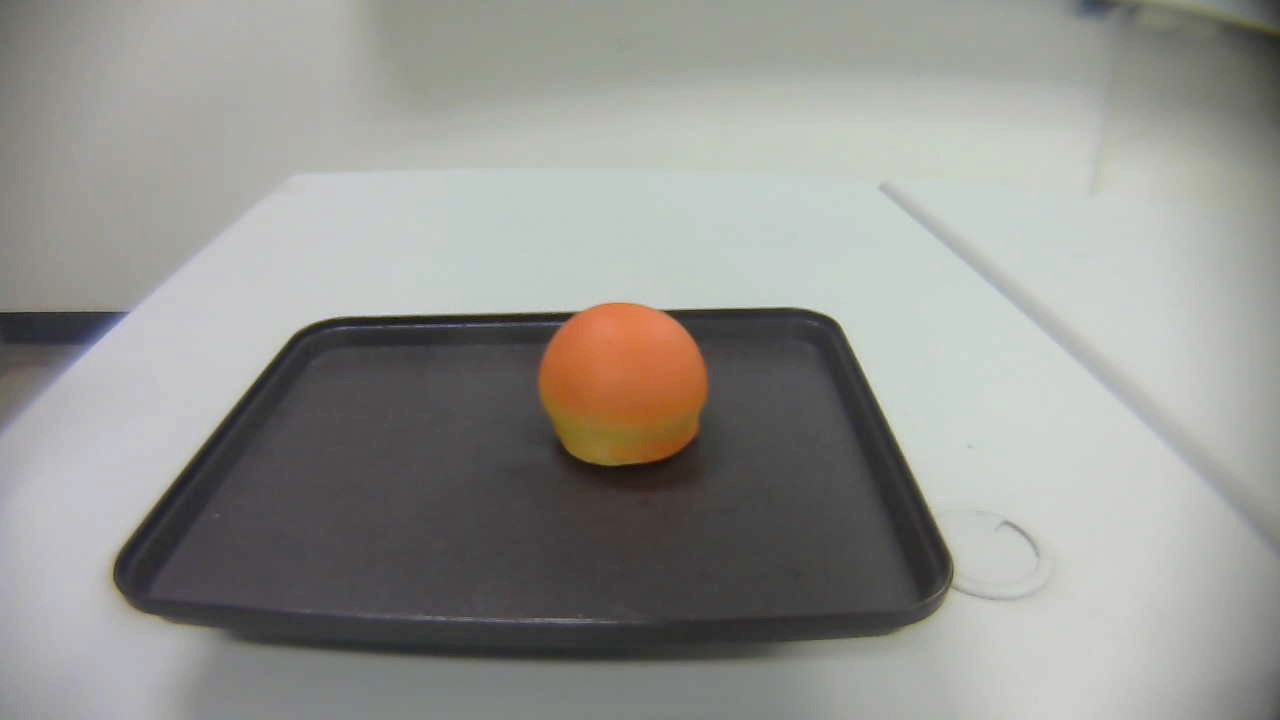bun: (536, 301, 709, 468)
